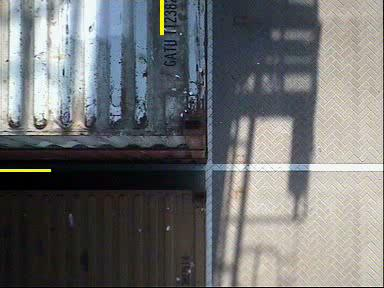groundmarker_2: (105, 136, 154, 164)
